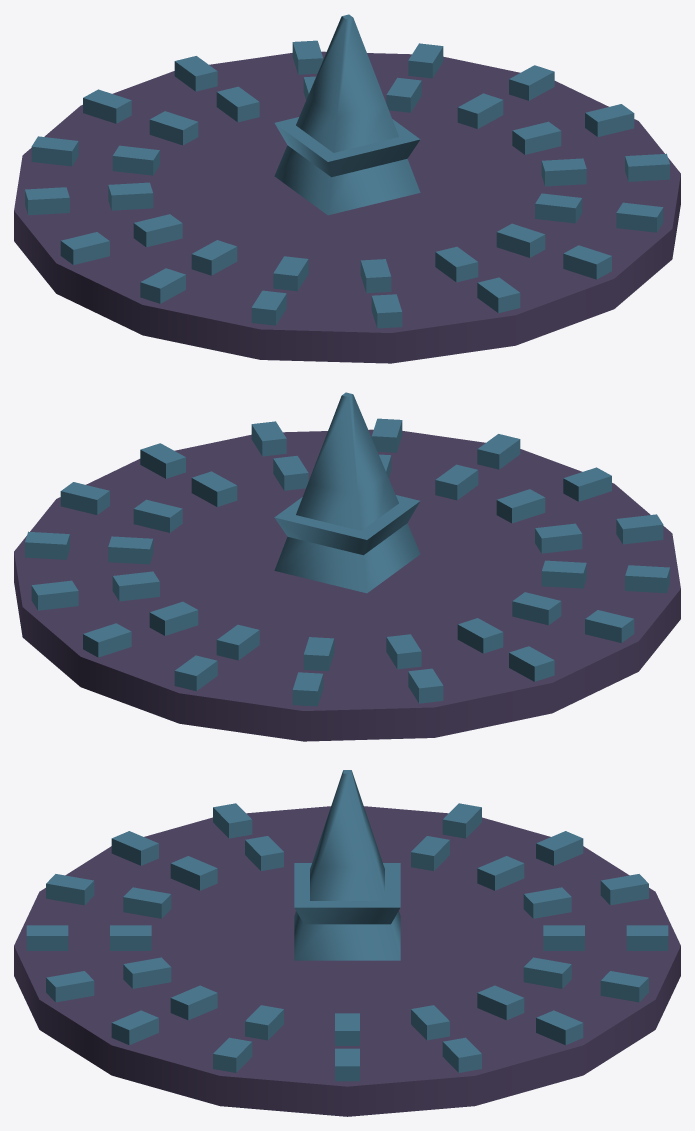
The model's file is imp_ju_ling_zhen.glb.
3 views of the same model, one above another, from view 1: azimuth 30°, elevation 25°; view 2: azimuth 150°, elevation 25°; view 3: azimuth 270°, elevation 25° (orthographic).
Parts seen in each view (by area): view 1: _MeshInstance3D_210, _MeshInstance3D_243, _MeshInstance3D_244, _MeshInstance3D_211, _MeshInstance3D_219, _MeshInstance3D_227, _MeshInstance3D_222, _MeshInstance3D_235, _MeshInstance3D_214, _MeshInstance3D_230, _MeshInstance3D_238, _MeshInstance3D_229 (+22 smaller); view 2: _MeshInstance3D_210, _MeshInstance3D_243, _MeshInstance3D_244, _MeshInstance3D_211, _MeshInstance3D_219, _MeshInstance3D_227, _MeshInstance3D_216, _MeshInstance3D_235, _MeshInstance3D_224, _MeshInstance3D_232, _MeshInstance3D_240, _MeshInstance3D_233 (+22 smaller); view 3: _MeshInstance3D_210, _MeshInstance3D_243, _MeshInstance3D_244, _MeshInstance3D_230, _MeshInstance3D_240, _MeshInstance3D_216, _MeshInstance3D_222, _MeshInstance3D_214, _MeshInstance3D_224, _MeshInstance3D_232, _MeshInstance3D_238, _MeshInstance3D_217 (+21 smaller).
Boxes of the visible parts, x1,y1,x2,y2 form: _MeshInstance3D_210: (14, 51, 680, 363); _MeshInstance3D_243: (274, 14, 420, 215); _MeshInstance3D_244: (274, 117, 420, 177); _MeshInstance3D_211: (512, 121, 561, 154); _MeshInstance3D_219: (133, 214, 182, 247); _MeshInstance3D_227: (585, 104, 634, 136); _MeshInstance3D_222: (149, 111, 198, 145); _MeshInstance3D_235: (60, 232, 109, 264); _MeshInstance3D_214: (496, 223, 545, 257); _MeshInstance3D_230: (563, 245, 611, 279); _MeshInstance3D_238: (83, 89, 131, 123); _MeshInstance3D_229: (616, 202, 663, 232); _MeshInstance3D_210: (14, 429, 680, 741); _MeshInstance3D_243: (274, 392, 420, 593); _MeshInstance3D_244: (274, 495, 420, 555); _MeshInstance3D_211: (133, 499, 182, 532); _MeshInstance3D_219: (512, 592, 561, 625); _MeshInstance3D_227: (60, 482, 109, 514); _MeshInstance3D_216: (496, 489, 545, 523); _MeshInstance3D_235: (585, 610, 634, 642); _MeshInstance3D_224: (149, 601, 198, 635); _MeshInstance3D_232: (563, 467, 611, 501); _MeshInstance3D_240: (83, 623, 131, 657); _MeshInstance3D_233: (616, 514, 663, 544); _MeshInstance3D_210: (14, 806, 680, 1116); _MeshInstance3D_243: (294, 770, 400, 960); _MeshInstance3D_244: (294, 863, 400, 924); _MeshInstance3D_230: (46, 971, 94, 1002); _MeshInstance3D_240: (600, 971, 648, 1002); _MeshInstance3D_216: (123, 887, 171, 918); _MeshInstance3D_222: (523, 887, 571, 918); _MeshInstance3D_214: (123, 957, 171, 988); _MeshInstance3D_224: (523, 957, 571, 988); _MeshInstance3D_232: (46, 874, 94, 905); _MeshInstance3D_238: (600, 874, 648, 905); _MeshInstance3D_217: (170, 856, 217, 890).
Size of the model in its own units: 0.8 by 0.29 by 0.8.
